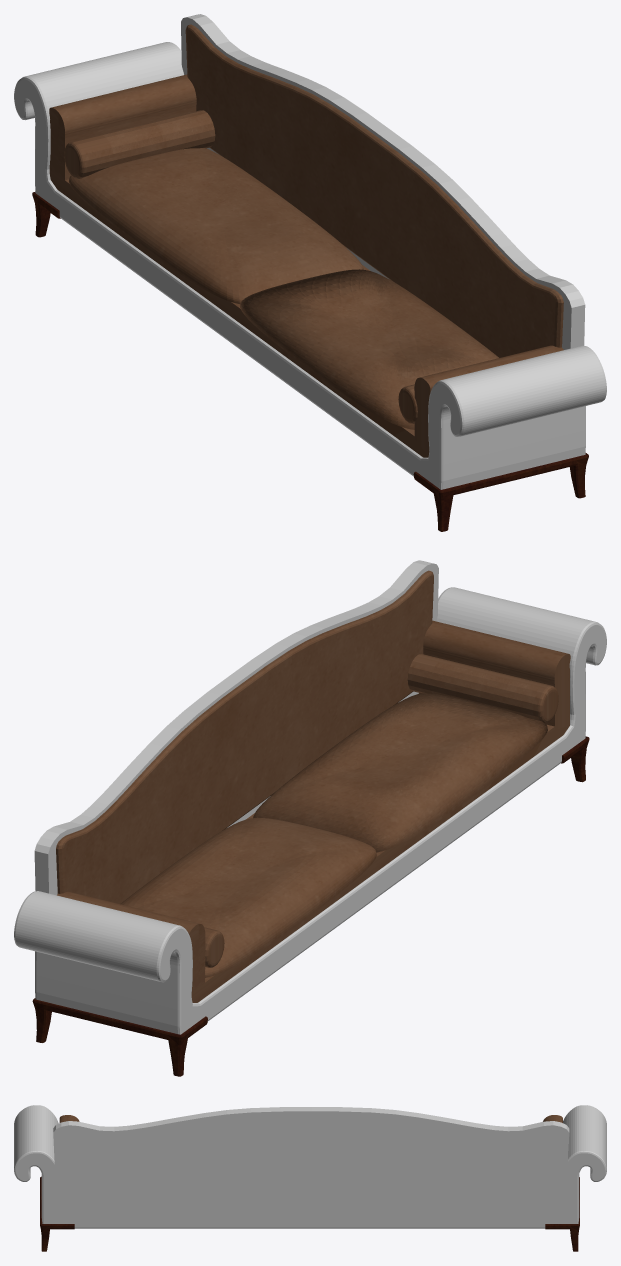
The model's file is Sofa.fbx.
3 views of the same model, one above another, from view 1: azimuth 30°, elevation 25°; view 2: azimuth 150°, elevation 25°; view 3: azimuth 270°, elevation 25° (orthographic). The views are drawn at different scales.
Parts seen in each view (by area): view 1: Sofa_sit004; view 2: Sofa_sit004; view 3: Sofa_sit004.
Boxes of the visible parts, bbox=[...] form: Sofa_sit004: bbox=[14, 14, 606, 531]; Sofa_sit004: bbox=[14, 560, 606, 1076]; Sofa_sit004: bbox=[14, 1105, 606, 1251].
Bounding box in the file's own units: 25.1 × 32.49 × 122.
